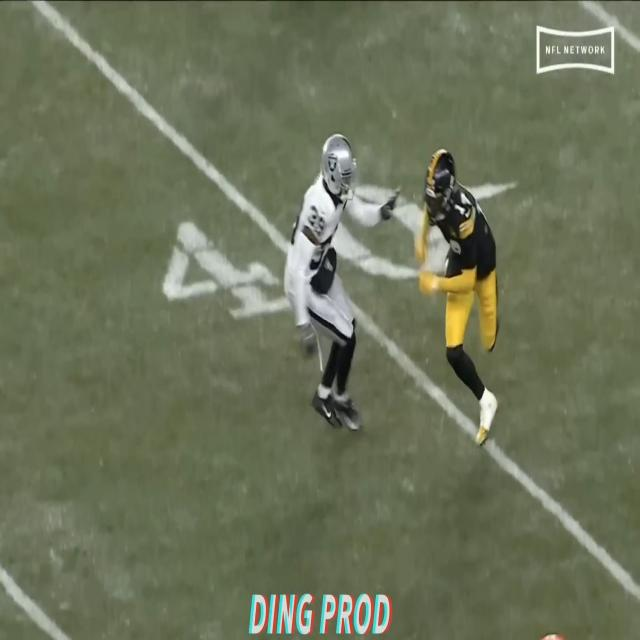players: (234, 133, 372, 452), (417, 143, 502, 458)
